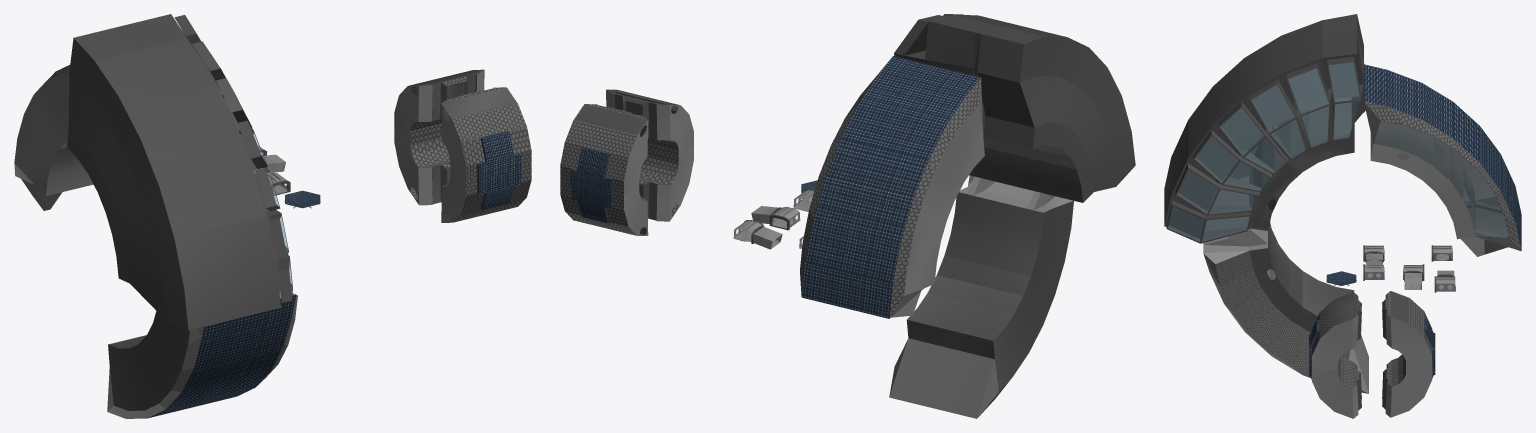
Rendered from nfan1_decommissioned_model.fbx.
The picture shows the model from 3 angles, left to right: view 1: azimuth 30°, elevation 25°; view 2: azimuth 150°, elevation 25°; view 3: azimuth 270°, elevation 25°; orthographic projection. The views are drawn at different scales.
Visible parts, largest first — view 1: Living Quarters, EQ/SM room, InnerRoom01, InnerRoom002, Control Room, 1SolarPannel; view 2: Control Room, EQ/SM room, Living Quarters, InnerRoom002, InnerRoom01, 1DoorSectionDown, 1DoorSectionDown001; view 3: Living Quarters, Control Room, 1WindowsLivingQuarters, EQ/SM room, InnerRoom002, InnerRoom01, 1WindowControlRoom, 1DoorSectionDown001, 1DoorSectionDown, 1DoorSection002, 1SolarPannel, 1DoorSectionBase.
Part boxes in pixels (x1=…): Living Quarters: x1=67, y1=14, x2=292, y2=330; EQ/SM room: x1=107, y1=292, x2=297, y2=418; InnerRoom01: x1=441, y1=87, x2=531, y2=222; InnerRoom002: x1=394, y1=69, x2=484, y2=205; Control Room: x1=14, y1=65, x2=93, y2=210; 1SolarPannel: x1=284, y1=190, x2=320, y2=208; Control Room: x1=800, y1=56, x2=984, y2=318; EQ/SM room: x1=889, y1=175, x2=1073, y2=418; Living Quarters: x1=894, y1=14, x2=1135, y2=202; InnerRoom002: x1=560, y1=104, x2=648, y2=235; InnerRoom01: x1=606, y1=89, x2=693, y2=221; 1DoorSectionDown: x1=733, y1=220, x2=782, y2=249; 1DoorSectionDown001: x1=751, y1=206, x2=800, y2=230; Living Quarters: x1=1164, y1=14, x2=1365, y2=243; Control Room: x1=1363, y1=64, x2=1521, y2=256; 1WindowsLivingQuarters: x1=1168, y1=62, x2=1359, y2=241; EQ/SM room: x1=1203, y1=222, x2=1368, y2=393; InnerRoom002: x1=1382, y1=291, x2=1435, y2=417; InnerRoom01: x1=1309, y1=292, x2=1361, y2=418; 1WindowControlRoom: x1=1374, y1=121, x2=1508, y2=237; 1DoorSectionDown001: x1=1403, y1=264, x2=1424, y2=289; 1DoorSectionDown: x1=1434, y1=270, x2=1455, y2=292; 1DoorSection002: x1=1363, y1=245, x2=1384, y2=264; 1SolarPannel: x1=1326, y1=271, x2=1356, y2=285; 1DoorSectionBase: x1=1431, y1=245, x2=1452, y2=261.
Bounding box in the file's own units: 4875 × 4130 × 4098.
5 materials, 3 textured.
